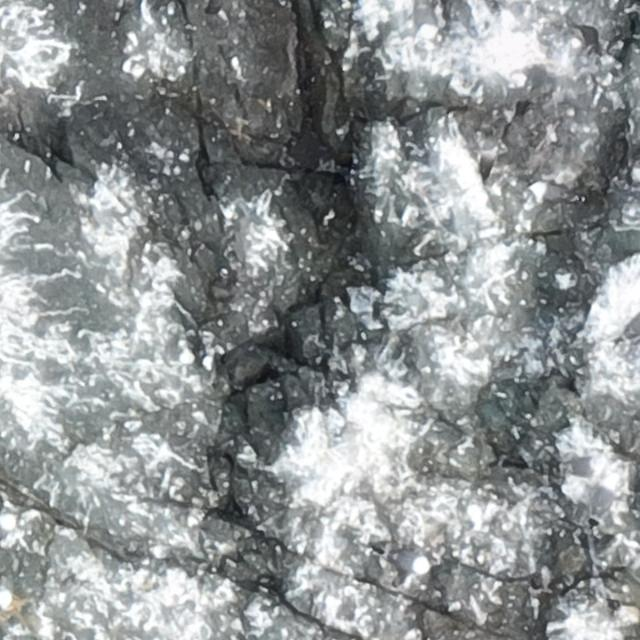umineko: (376, 544, 431, 574), (592, 472, 620, 524), (556, 454, 608, 478), (530, 179, 576, 204), (414, 2, 440, 38)
